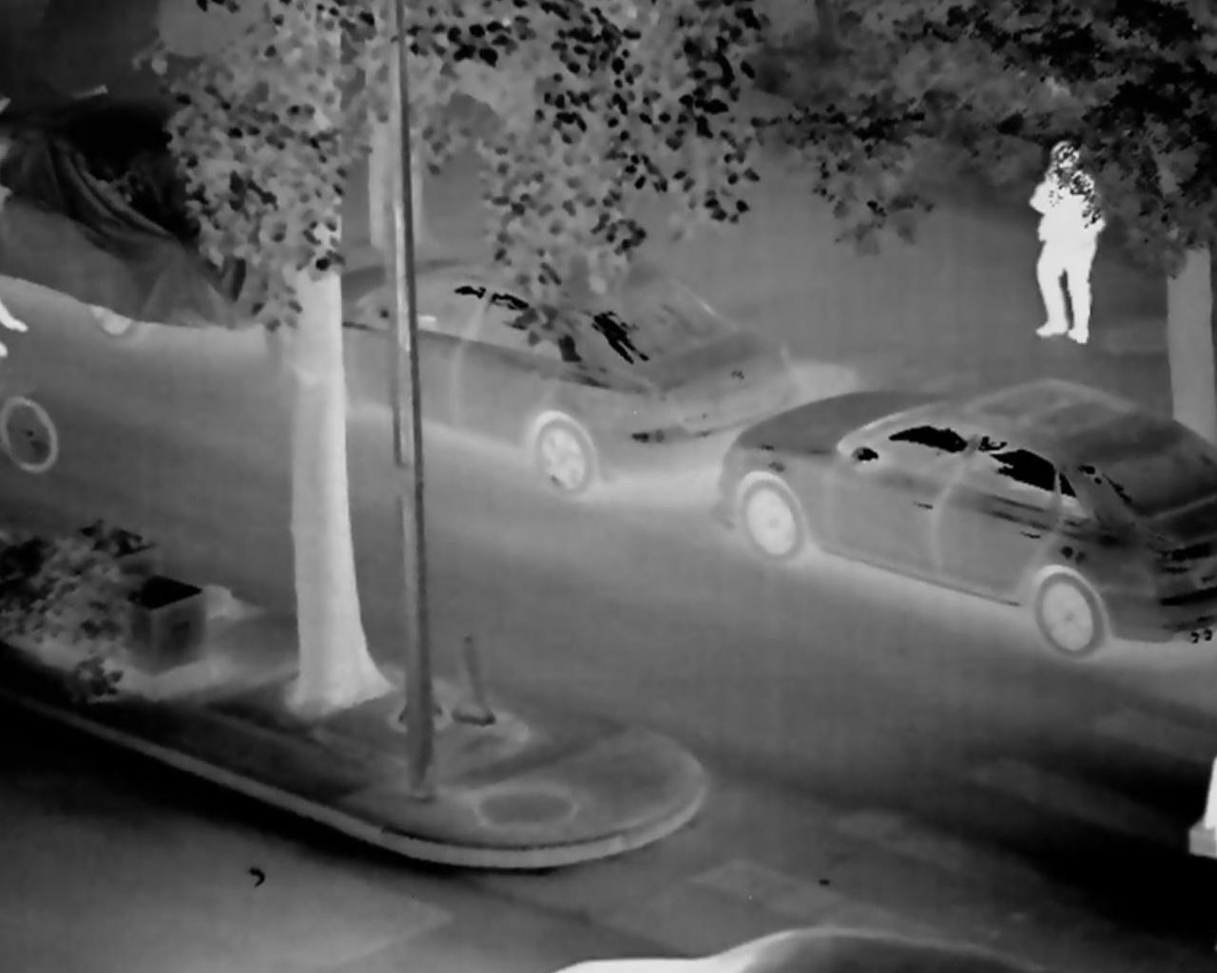person: (1023, 134, 1110, 353)
